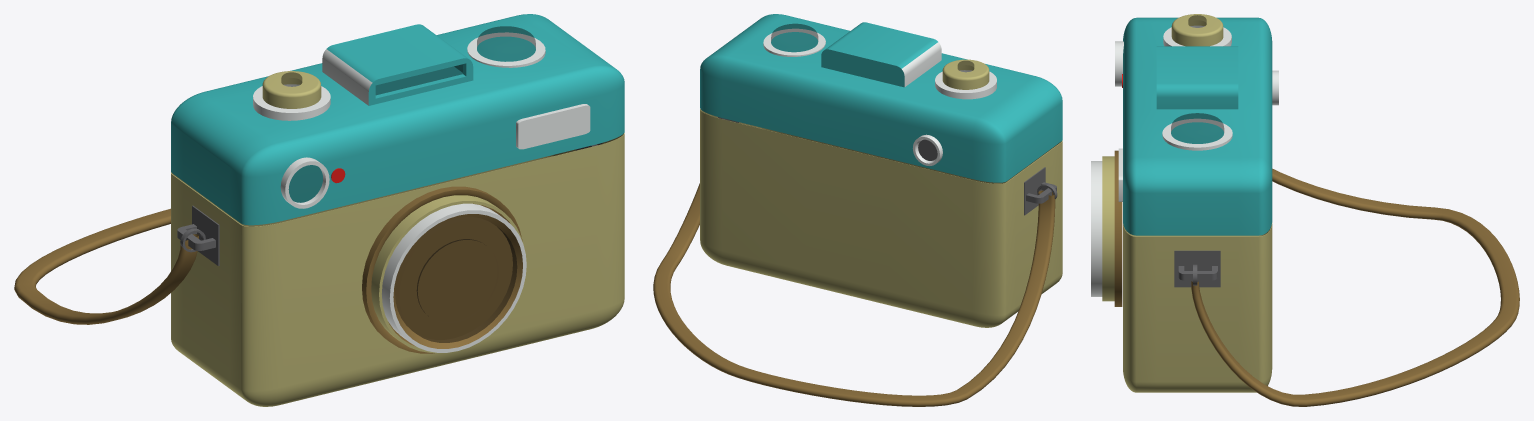
File: Camera.glb
The picture shows the model from 3 angles, left to right: view 1: azimuth 30°, elevation 25°; view 2: azimuth 150°, elevation 25°; view 3: azimuth 270°, elevation 25°; orthographic projection. The views are drawn at different scales.
Visible parts, largest first — view 1: Cube, Cylinder.005, BézierCurve, Cylinder.001, Cylinder, Cube.001, Cylinder.004, Cube.002; view 2: Cube, BézierCurve, Cylinder.001, Cylinder, Cylinder.002, Cube.002; view 3: Cube, BézierCurve, Cylinder.005, Cylinder, Cylinder.001, Cube.002, Cube.003.
Boxes of the visible parts, bbox=[...] form: Cube: bbox=[171, 14, 624, 406]; Cylinder.005: bbox=[362, 186, 526, 353]; BézierCurve: bbox=[14, 208, 198, 324]; Cylinder.001: bbox=[253, 71, 330, 120]; Cylinder: bbox=[467, 26, 545, 67]; Cube.001: bbox=[516, 104, 590, 149]; Cylinder.004: bbox=[280, 157, 329, 208]; Cube.002: bbox=[192, 143, 602, 265]; Cube: bbox=[700, 14, 1062, 327]; BézierCurve: bbox=[653, 120, 1055, 406]; Cylinder.001: bbox=[935, 59, 996, 99]; Cylinder: bbox=[763, 24, 825, 56]; Cylinder.002: bbox=[912, 134, 942, 165]; Cube.002: bbox=[718, 117, 1045, 215]; Cube: bbox=[1123, 17, 1272, 392]; BézierCurve: bbox=[1191, 168, 1519, 406]; Cylinder.005: bbox=[1091, 150, 1122, 306]; Cylinder: bbox=[1162, 113, 1232, 150]; Cylinder.001: bbox=[1163, 14, 1231, 46]; Cube.002: bbox=[1174, 250, 1220, 287]; Cube.003: bbox=[1178, 266, 1217, 280].
Size of the model in its own units: 7.37 by 4.4 by 6.66.
